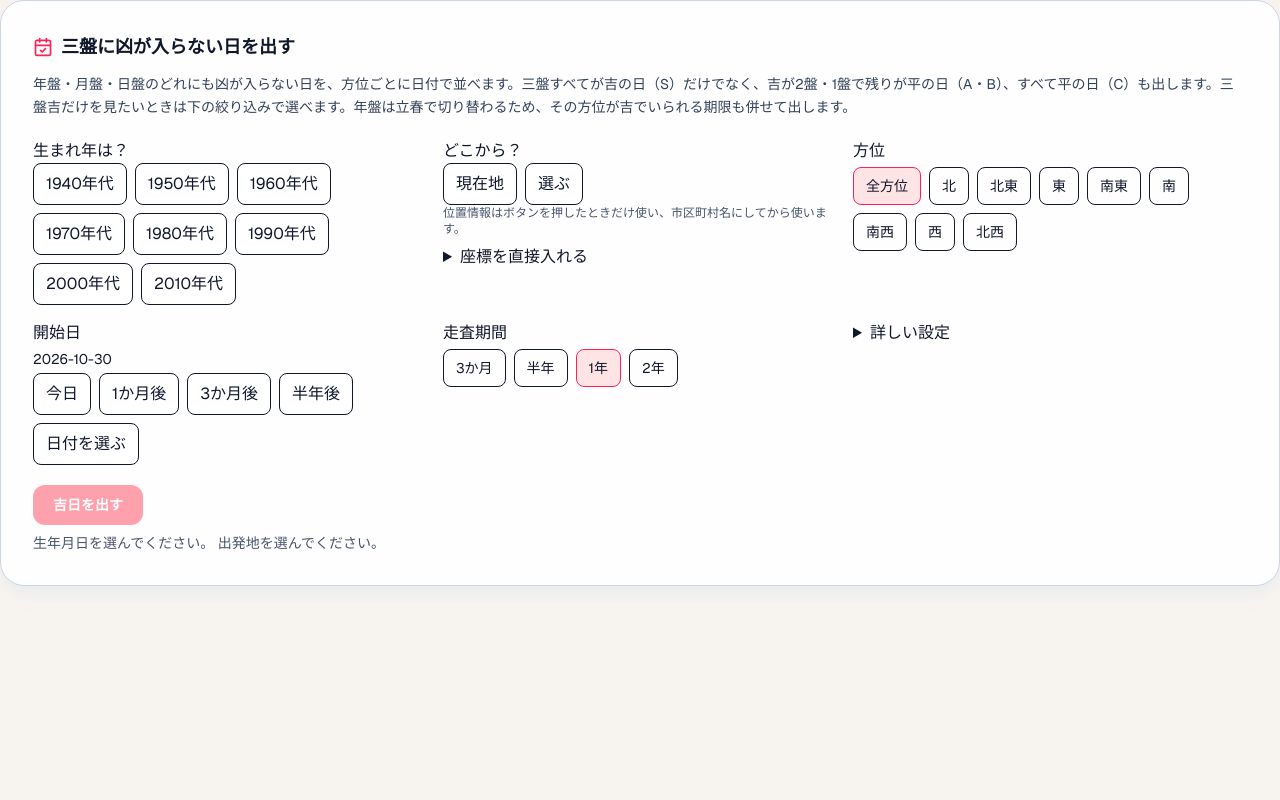
Scenario: 遅い設定読み込みで利用者の選択を戻さない
The image size is (1280, 800).
Click the button "1980年代".
click(180, 234)  # box [133,212,227,254]
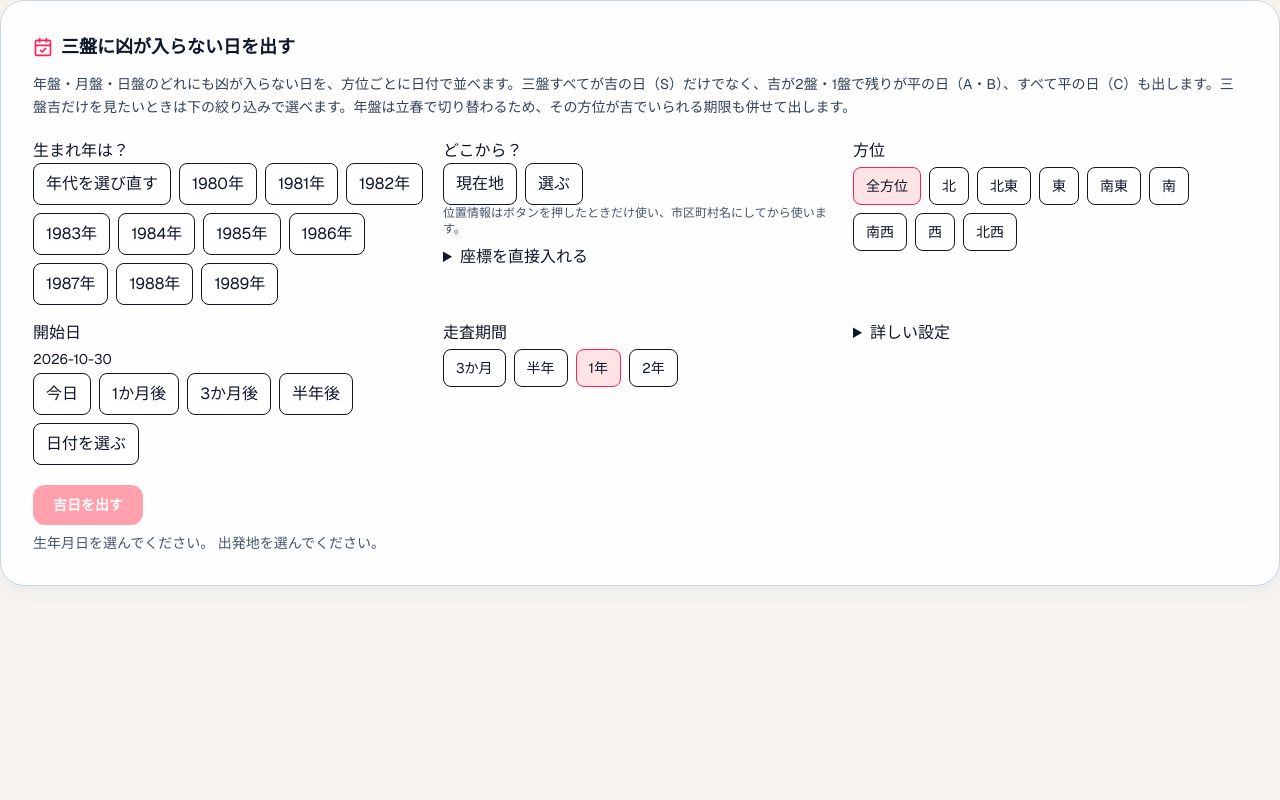
Click the button "1986年".
click(327, 234)  # box [289,212,365,254]
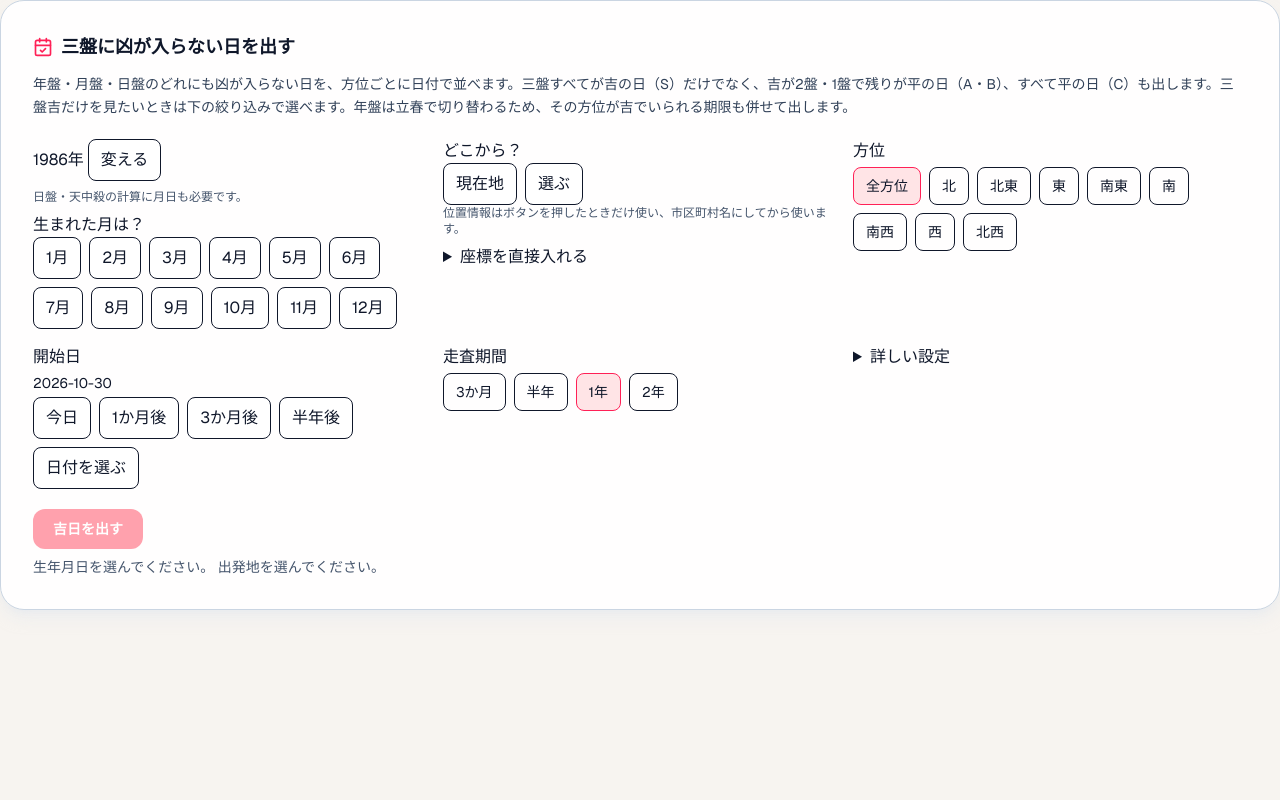
Expected: the text "1986年" is shown, [33,138,161,180]
Expected: the text "生まれた月は？" is shown, [33,212,145,236]
